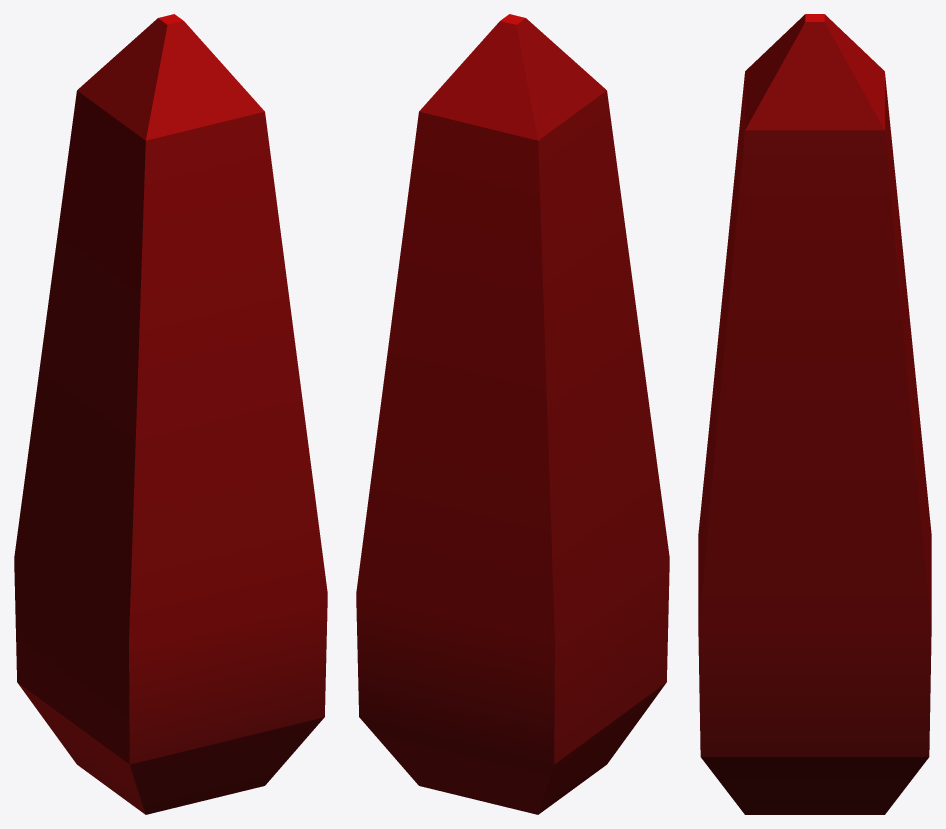
Rendered from geology-carvedstone-obelisk_v4.fbx.
3 views of the same model, side by side, from view 1: azimuth 30°, elevation 25°; view 2: azimuth 150°, elevation 25°; view 3: azimuth 270°, elevation 25° (orthographic).
Visible parts, largest first — view 1: Obelisk_v4; view 2: Obelisk_v4; view 3: Obelisk_v4.
Boxes of the visible parts, bbox=[...] form: Obelisk_v4: bbox=[14, 14, 327, 814]; Obelisk_v4: bbox=[356, 14, 669, 814]; Obelisk_v4: bbox=[698, 14, 931, 814].
Size of the model in its own units: 1.41 by 5.12 by 1.41.
